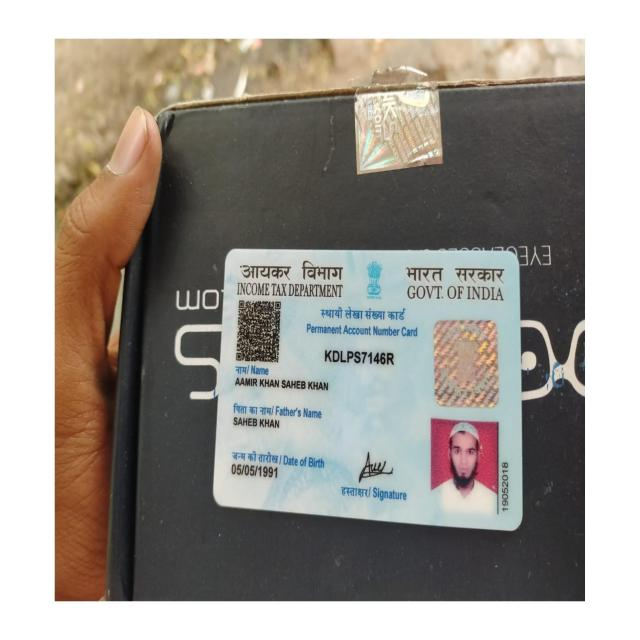pan_card: (218, 253, 518, 529)
